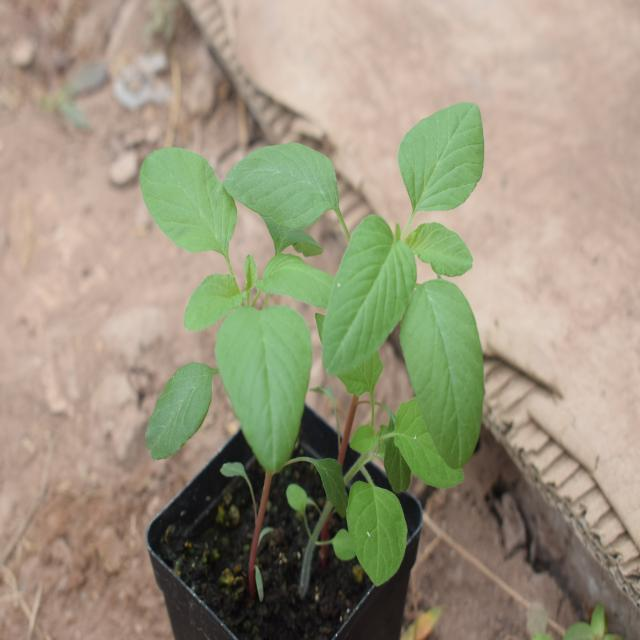pigweed: (261, 100, 493, 497), (125, 110, 334, 492)
